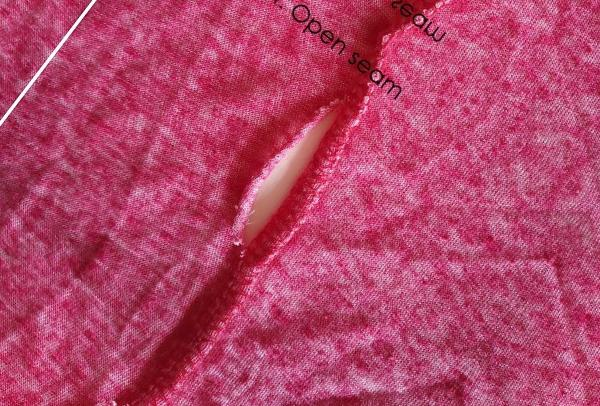hole: (228, 90, 354, 268)
